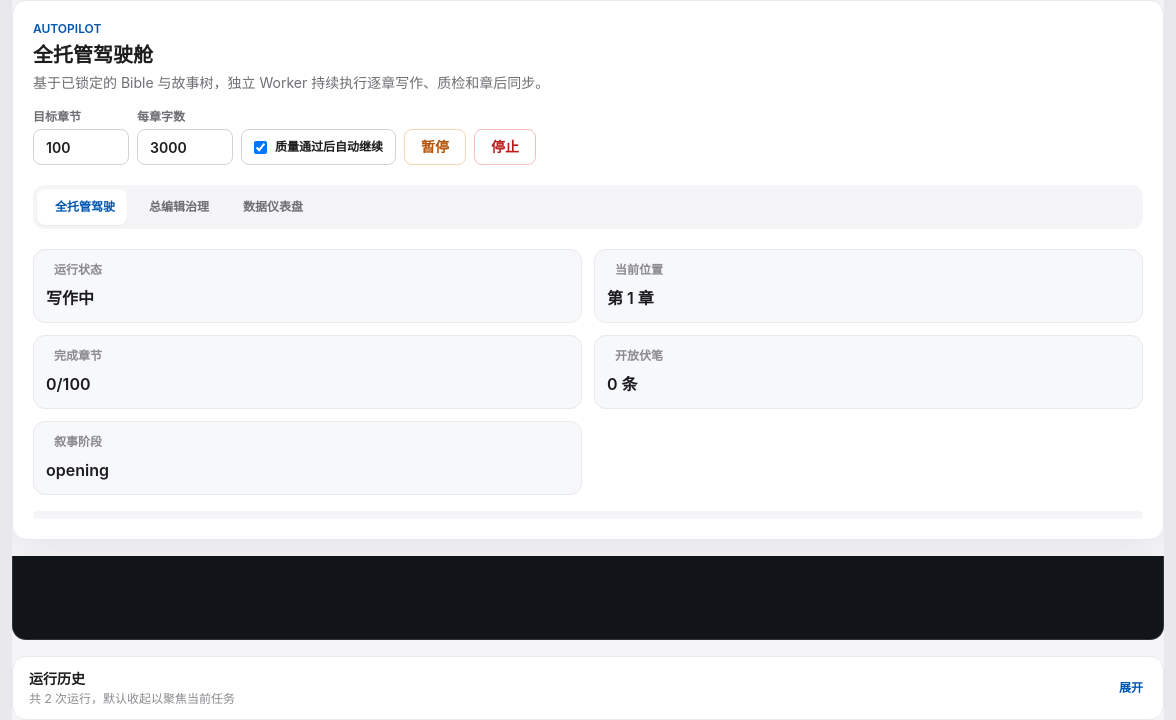
NovelRunCockpit live events › keeps run history inside autopilot and collapsed by default
(page scrolled)
Expected: the text "辅助写作 · 已完成" is not shown
Step 1. Click the button with aria-label "展开运行历史" → (57, 678), box [13,657,1163,719]
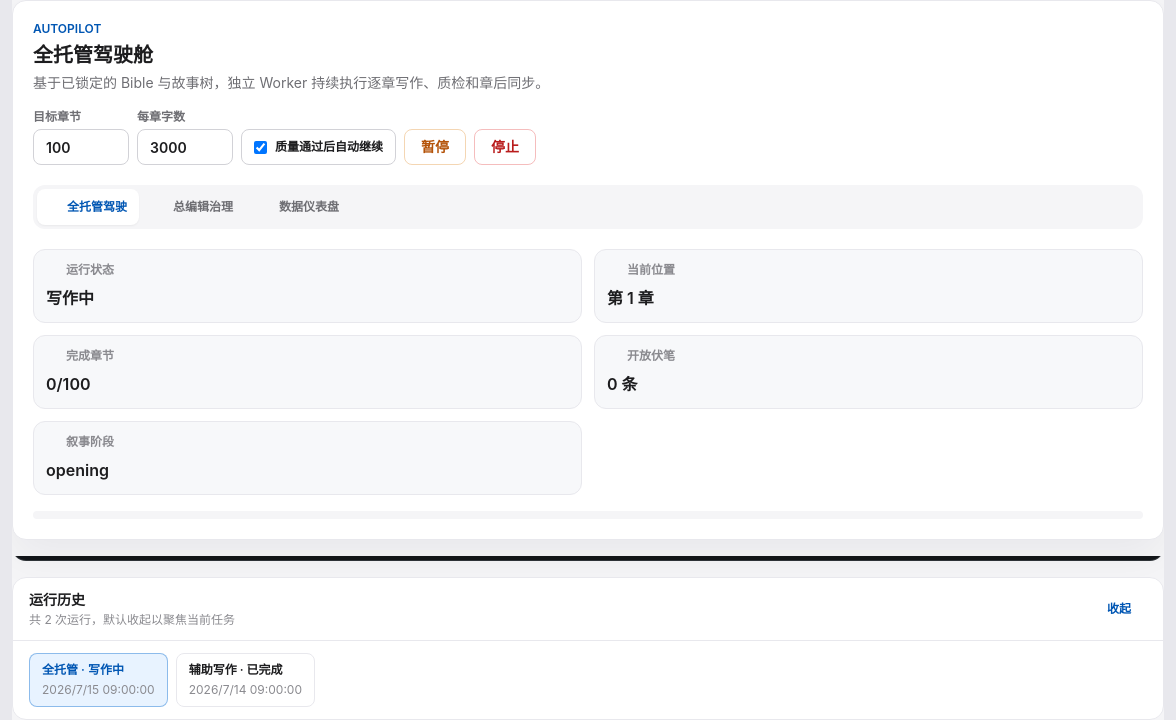
Now the button with aria-label "收起运行历史" is expanded, box [13,578,1163,640]
Now the text "辅助写作 · 已完成" is shown, box [189,662,283,677]
